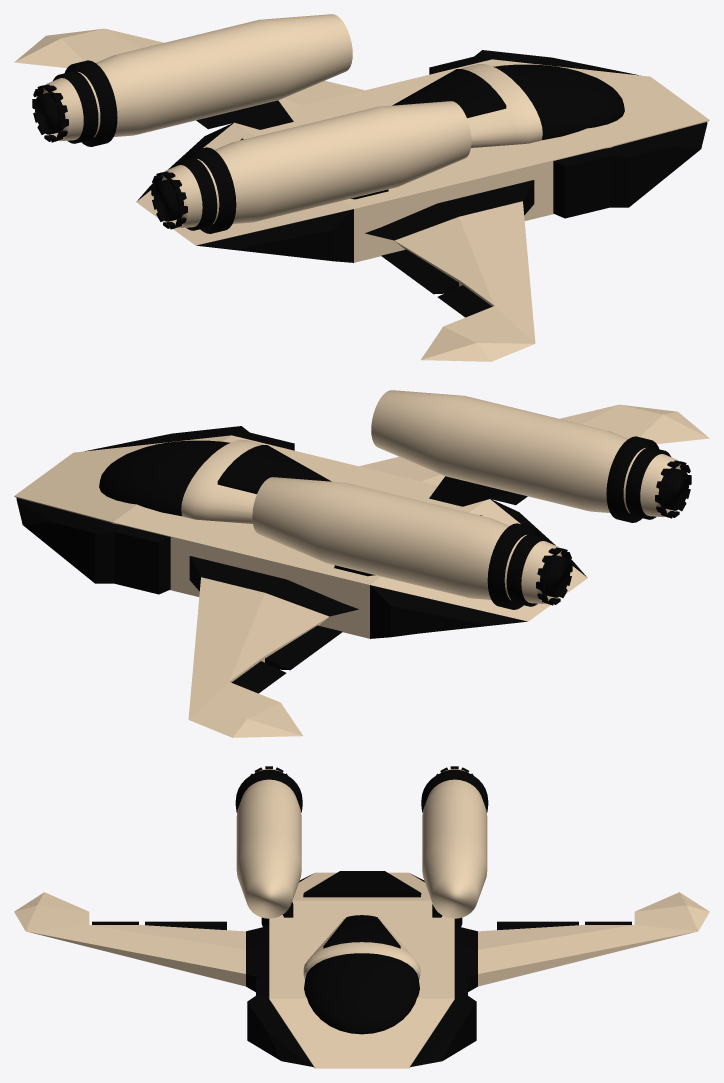
Rendered from Drone.glb.
3 renders of one model, top to bottom at view 1: azimuth 30°, elevation 25°; view 2: azimuth 150°, elevation 25°; view 3: azimuth 270°, elevation 25°, orthographic. The views are drawn at different scales.
Parts seen in each view (by area): view 1: Cube, Cylinder.001, Cylinder.004, Cube.002, Cube.008, Sphere, Cube.044, Cube.004, Cylinder.008, Cylinder.009, Cylinder.003, Cylinder.006 (+6 smaller); view 2: Cube, Cylinder.004, Cylinder.001, Cube.044, Cube.014, Sphere, Cube.002, Cube.003, Cylinder.008, Cylinder.009, Cylinder.006, Cylinder.003 (+6 smaller); view 3: Cube, Cube.002, Cube.044, Cylinder.001, Cylinder.004, Sphere, Cube.008, Cube.014, Cube.017, Cylinder.008, Cylinder.009, Cylinder.003 (+1 smaller).
Part boxes in pixels (x1,y1,x2,y2): Cube: (136, 59, 709, 262); Cylinder.001: (43, 14, 352, 141); Cylinder.004: (162, 101, 471, 228); Cube.002: (365, 180, 535, 361); Cube.008: (553, 122, 707, 218); Sphere: (493, 64, 624, 140); Cube.044: (14, 28, 364, 129); Cube.004: (196, 209, 353, 262); Cylinder.008: (461, 64, 542, 147); Cylinder.009: (392, 69, 506, 117); Cylinder.003: (65, 60, 117, 146); Cylinder.006: (183, 147, 236, 233); Cube: (14, 435, 587, 638); Cylinder.004: (371, 390, 680, 517); Cylinder.001: (252, 477, 561, 604); Cube.044: (188, 556, 358, 737); Cube.014: (16, 498, 170, 594); Sphere: (99, 440, 230, 516); Cube.002: (359, 404, 709, 505); Cube.003: (370, 585, 527, 638); Cylinder.008: (181, 440, 262, 523); Cylinder.009: (217, 445, 331, 493); Cylinder.006: (606, 436, 658, 522); Cylinder.003: (487, 523, 540, 609); Cube: (269, 872, 454, 1068); Cube.002: (14, 892, 269, 991); Cube.044: (454, 892, 709, 991); Cylinder.001: (422, 769, 487, 918); Cylinder.004: (236, 769, 301, 918); Sphere: (304, 953, 419, 1034); Cube.008: (247, 977, 313, 1066); Cube.014: (410, 977, 476, 1066); Cube.017: (303, 871, 421, 897); Cylinder.008: (303, 918, 420, 979); Cylinder.009: (323, 915, 400, 948); Cylinder.003: (421, 770, 488, 812).
Size of the model in its own units: 2.24 by 0.5524 by 3.
